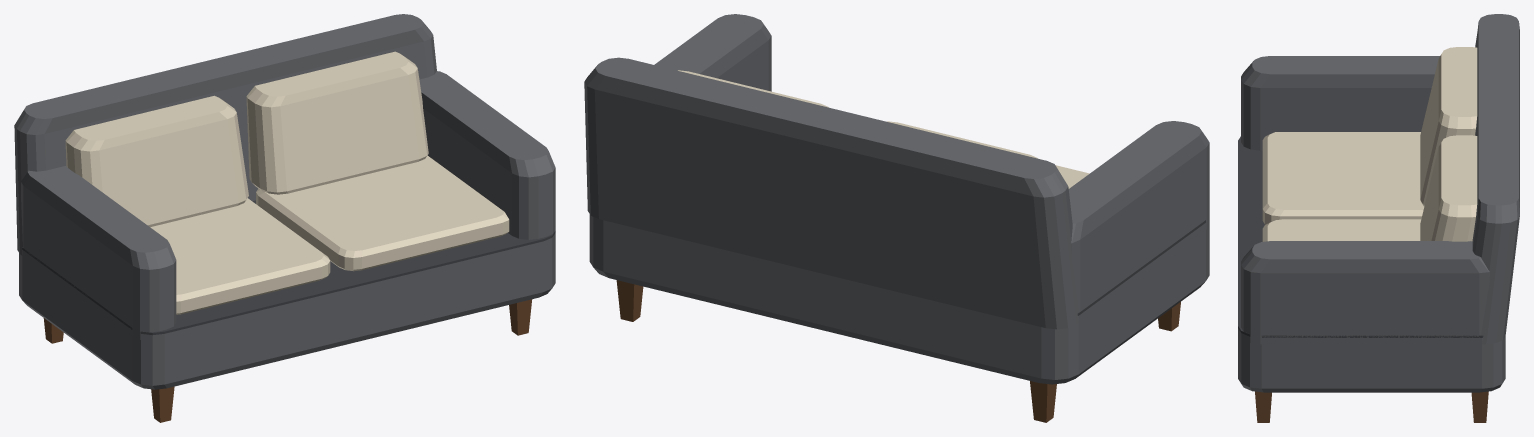
File: FN_Sofa_2Seat.obj
3 renders of one model, left to right at view 1: azimuth 30°, elevation 25°; view 2: azimuth 150°, elevation 25°; view 3: azimuth 270°, elevation 25°, orthographic. The views are drawn at different scales.
Parts seen in each view (by area): view 1: FN_Sofa_2Seat; view 2: FN_Sofa_2Seat; view 3: FN_Sofa_2Seat.
Boxes of the visible parts, bbox=[...] form: FN_Sofa_2Seat: bbox=[14, 14, 555, 422]; FN_Sofa_2Seat: bbox=[584, 14, 1209, 422]; FN_Sofa_2Seat: bbox=[1238, 14, 1519, 422].
Bounding box in the file's own units: 1.56 × 0.792 × 0.906.
Materials: 1 (1 with a texture image).
